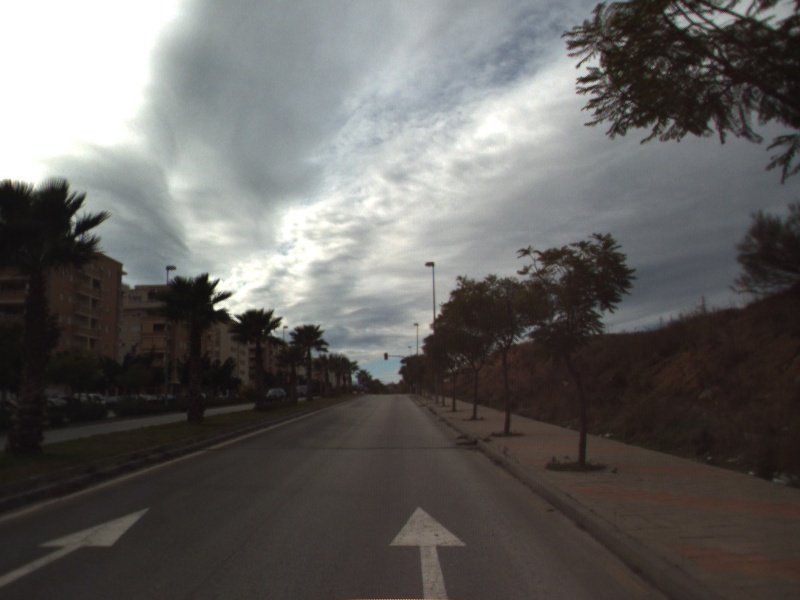STRAIGHT: (1, 505, 154, 589), (387, 503, 469, 600)
